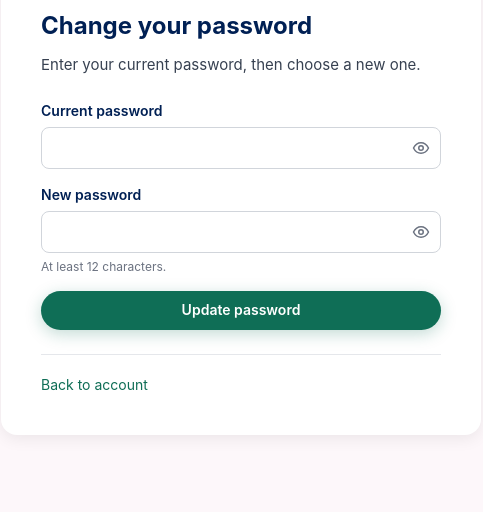
Test: ResetPasswordForm — submission › surfaces other ApiErrors as form-level errors
Type "OldStrong!Pass99" into the password field labelled "Current password" at (241, 148), box [41,127,441,169]
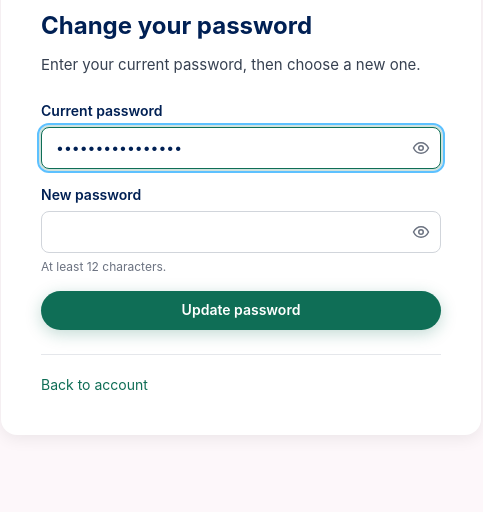
Type "NewStrong!Pass99" into the password field labelled "New password" at (241, 232), box [41,211,441,253]
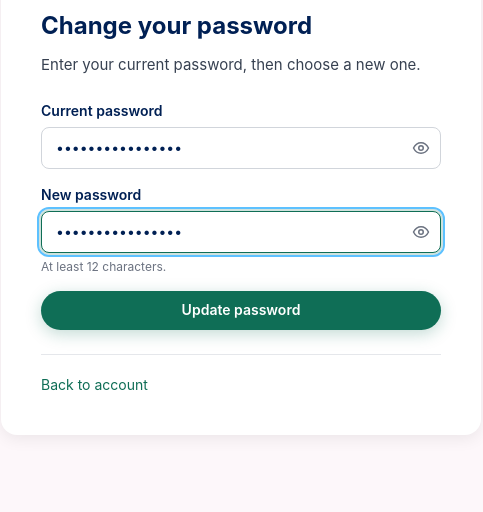
Click the button "Update password" at (241, 311), box [41,291,441,330]
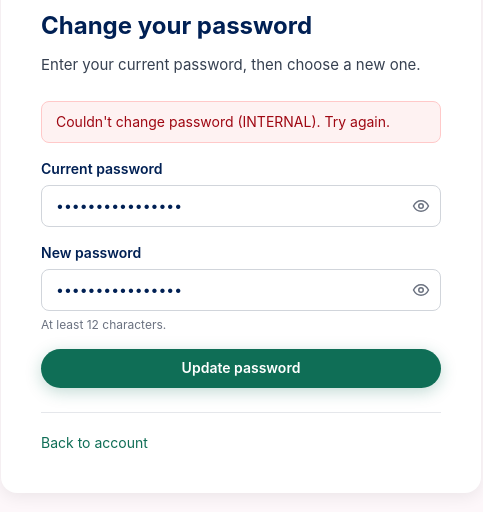
Now the text "Couldn't change password (INTERNAL). Try again." is shown, box [41,101,441,143]
